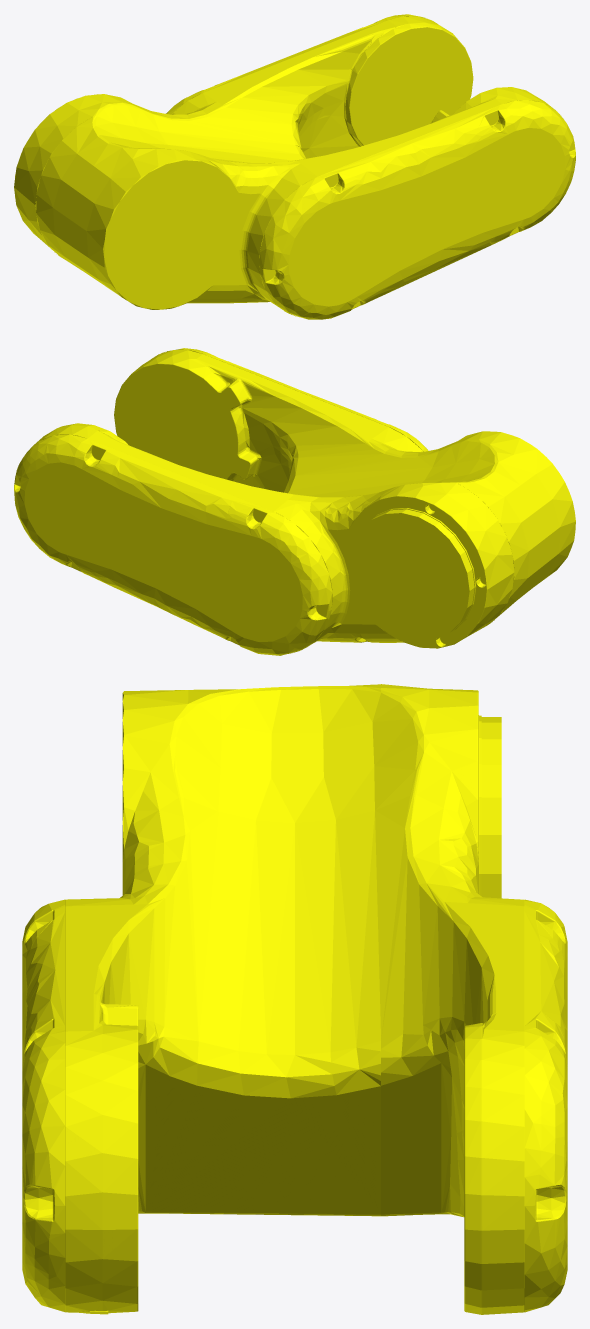
The picture shows the model from 3 angles, top to bottom: view 1: azimuth 30°, elevation 25°; view 2: azimuth 150°, elevation 25°; view 3: azimuth 270°, elevation 25°; orthographic projection. The views are drawn at different scales.
Visible parts, largest first — view 1: node; view 2: node; view 3: node.
Part boxes in pixels (x1=…): node: x1=14, y1=14, x2=575, y2=319; node: x1=14, y1=348, x2=575, y2=655; node: x1=22, y1=684, x2=567, y2=1314.
Bounding box in the file's own units: 370 × 142 × 190.
